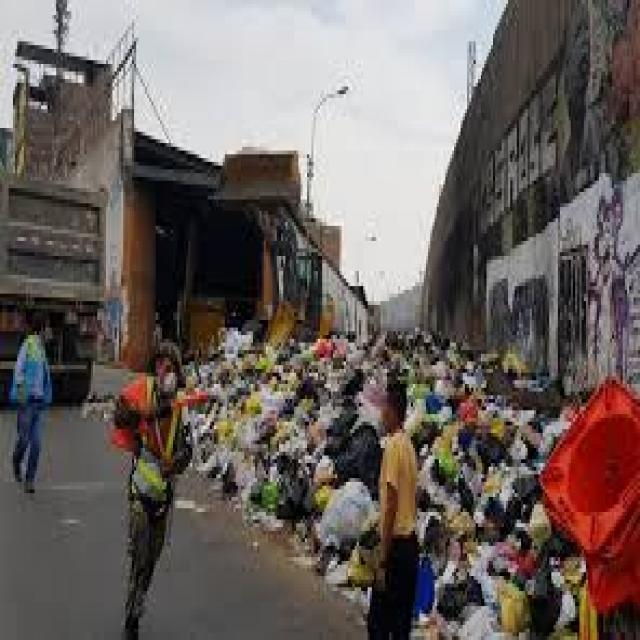garbage: (203, 334, 640, 634)
